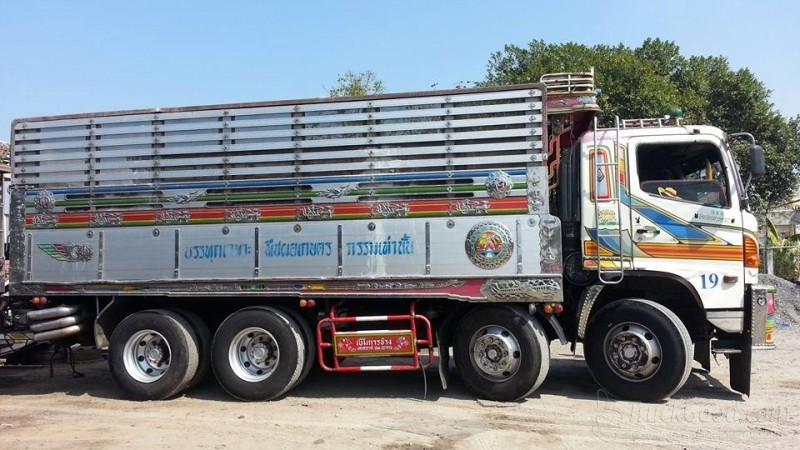truck: (6, 72, 779, 402)
